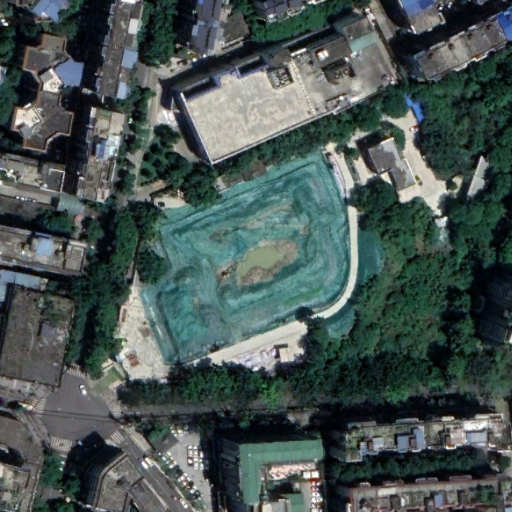cw: (138, 146, 352, 364)
